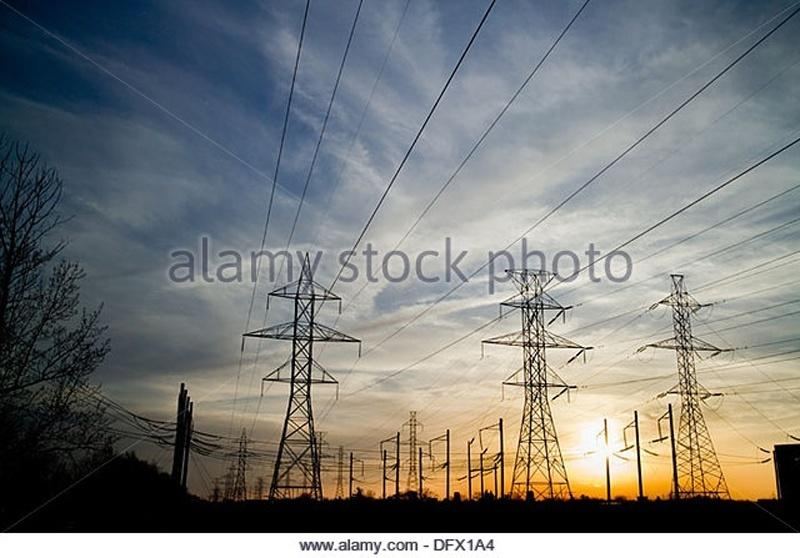power_tower: (245, 260, 355, 496), (477, 267, 586, 500), (638, 269, 747, 490)
